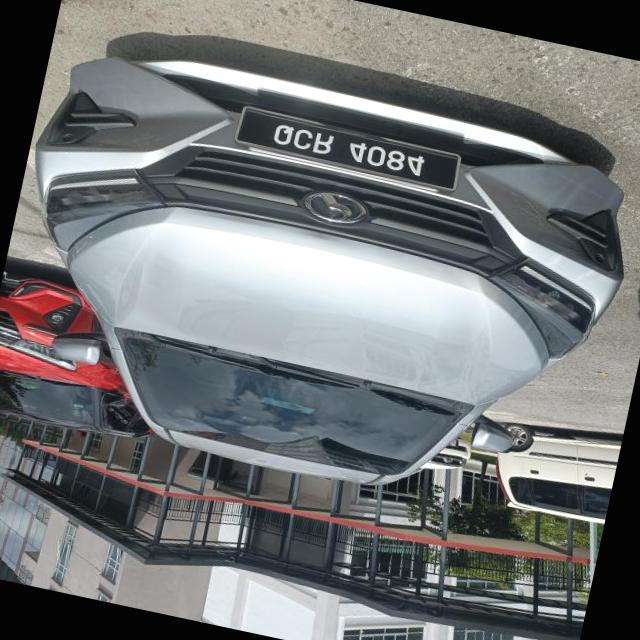PeroduaAxia: (0, 29, 640, 533)
